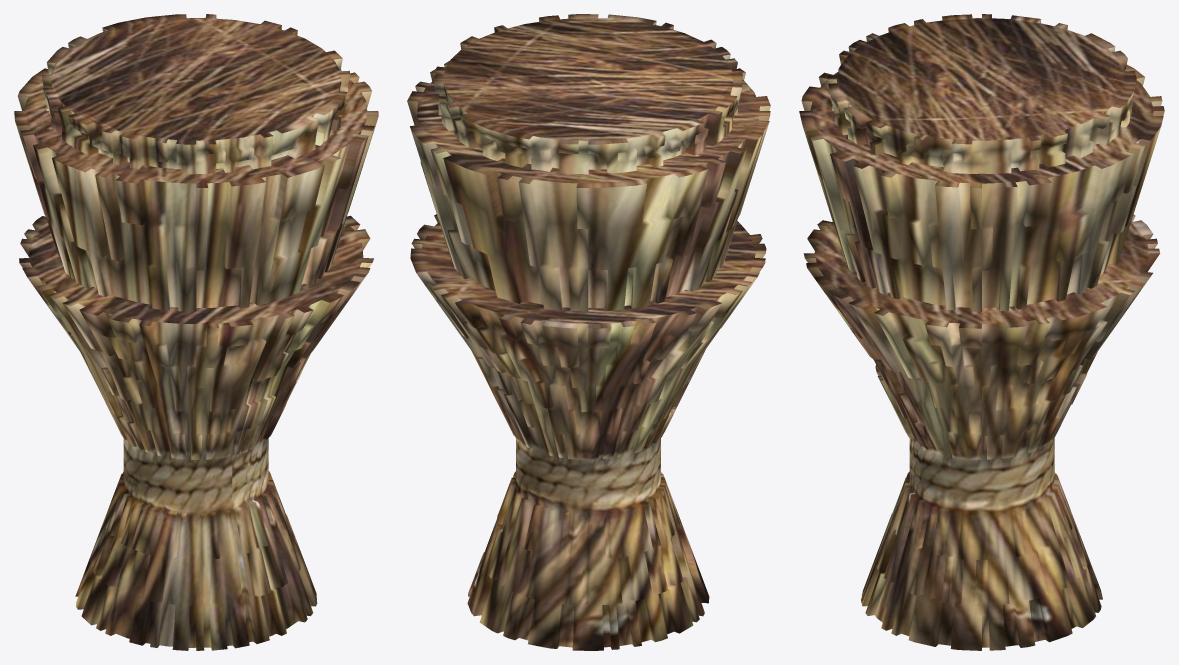
File: wheat.glb
3 views of the same model, side by side, from view 1: azimuth 30°, elevation 25°; view 2: azimuth 150°, elevation 25°; view 3: azimuth 270°, elevation 25° (orthographic).
Parts seen in each view (by area): view 1: Circle; view 2: Circle; view 3: Circle.
Boxes of the visible parts, x1,y1,x2,y2 form: Circle: [14, 14, 378, 650]; Circle: [407, 14, 770, 650]; Circle: [799, 14, 1164, 650].
Size of the model in its own units: 3.21 by 5.04 by 3.21.
Materials: 1 (1 with a texture image).
